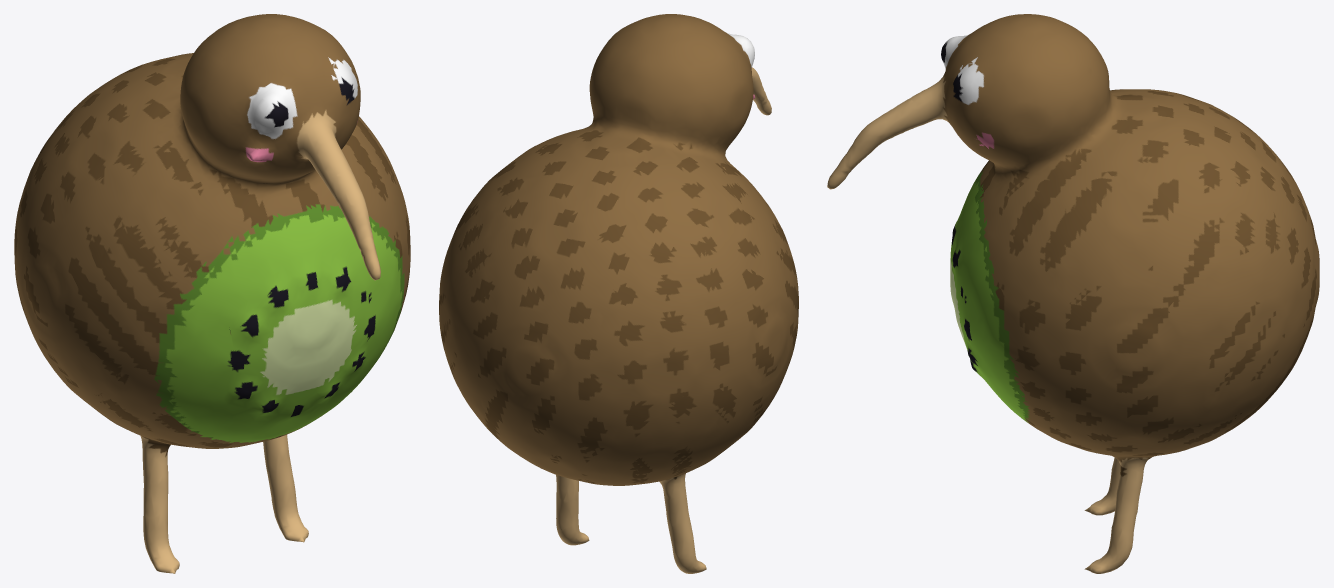
File: SM_Pipi_Kiwi.fbx
The picture shows the model from 3 angles, left to right: view 1: azimuth 30°, elevation 25°; view 2: azimuth 150°, elevation 25°; view 3: azimuth 270°, elevation 25°; orthographic projection. The views are drawn at different scales.
Parts seen in each view (by area): view 1: Pipi_Kiwi; view 2: Pipi_Kiwi; view 3: Pipi_Kiwi.
Boxes of the visible parts, x1=… form: Pipi_Kiwi: x1=14, y1=14, x2=410, y2=573; Pipi_Kiwi: x1=439, y1=14, x2=798, y2=573; Pipi_Kiwi: x1=827, y1=14, x2=1319, y2=573.
Size of the model in its own units: 0.72 by 1.12 by 0.9598.
1 material, 1 textured.
